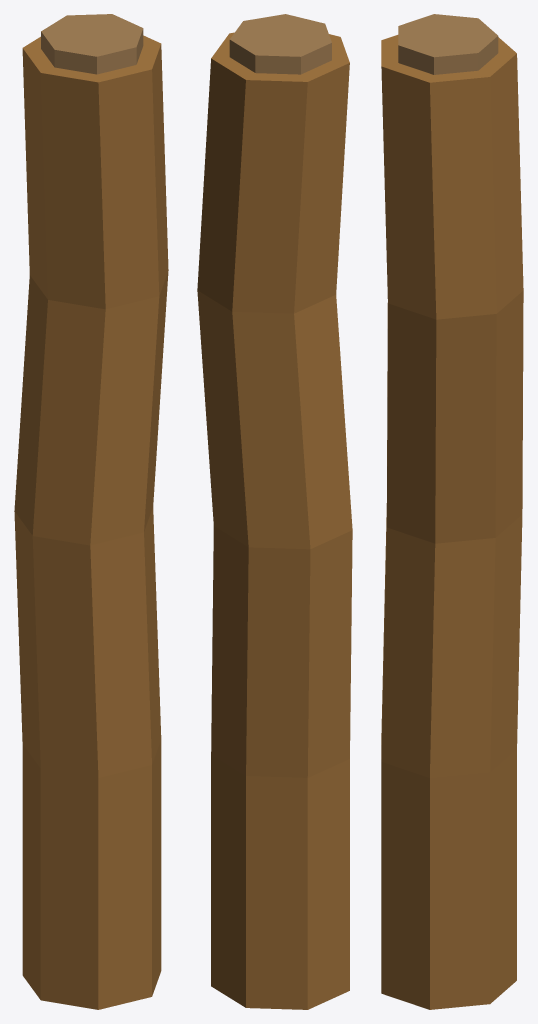
File: Wood log portrate.glb
3 renders of one model, left to right at view 1: azimuth 30°, elevation 25°; view 2: azimuth 150°, elevation 25°; view 3: azimuth 270°, elevation 25°, orthographic.
Visible parts, largest first — view 1: Cylinder; view 2: Cylinder; view 3: Cylinder.
Boxes of the visible parts, box(x1,y1,x2,y2) form: Cylinder: box(14, 14, 168, 1009); Cylinder: box(197, 14, 352, 1009); Cylinder: box(381, 14, 523, 1009).
Size of the model in its own units: 0.1379 by 0.9135 by 0.1245.
